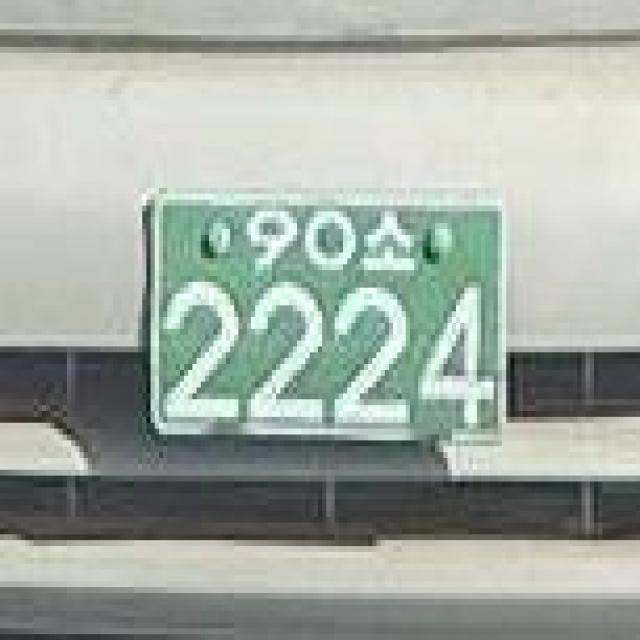illegal_plate: (131, 166, 522, 470)
